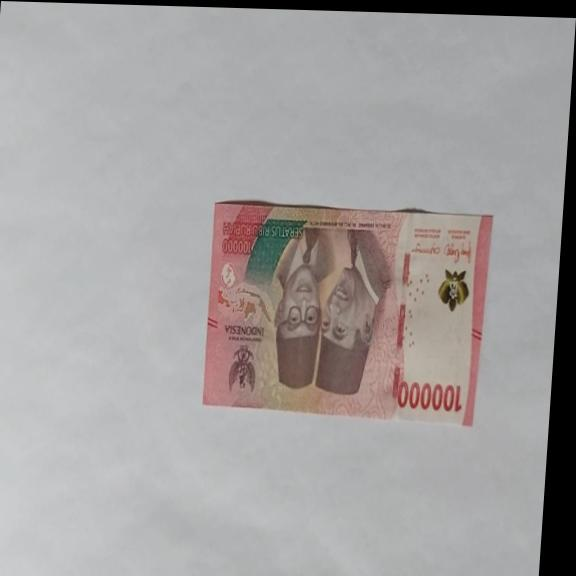Kertas: (198, 199, 493, 428), (395, 378, 463, 414)
